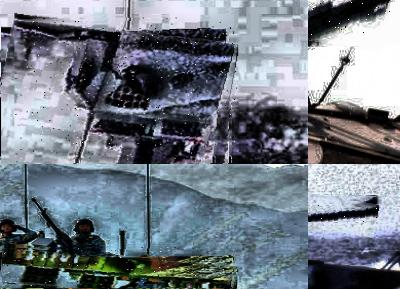tanks: (16, 19, 238, 165), (3, 248, 238, 289), (309, 105, 400, 165), (309, 253, 400, 289), (309, 1, 390, 41), (309, 206, 379, 220)
